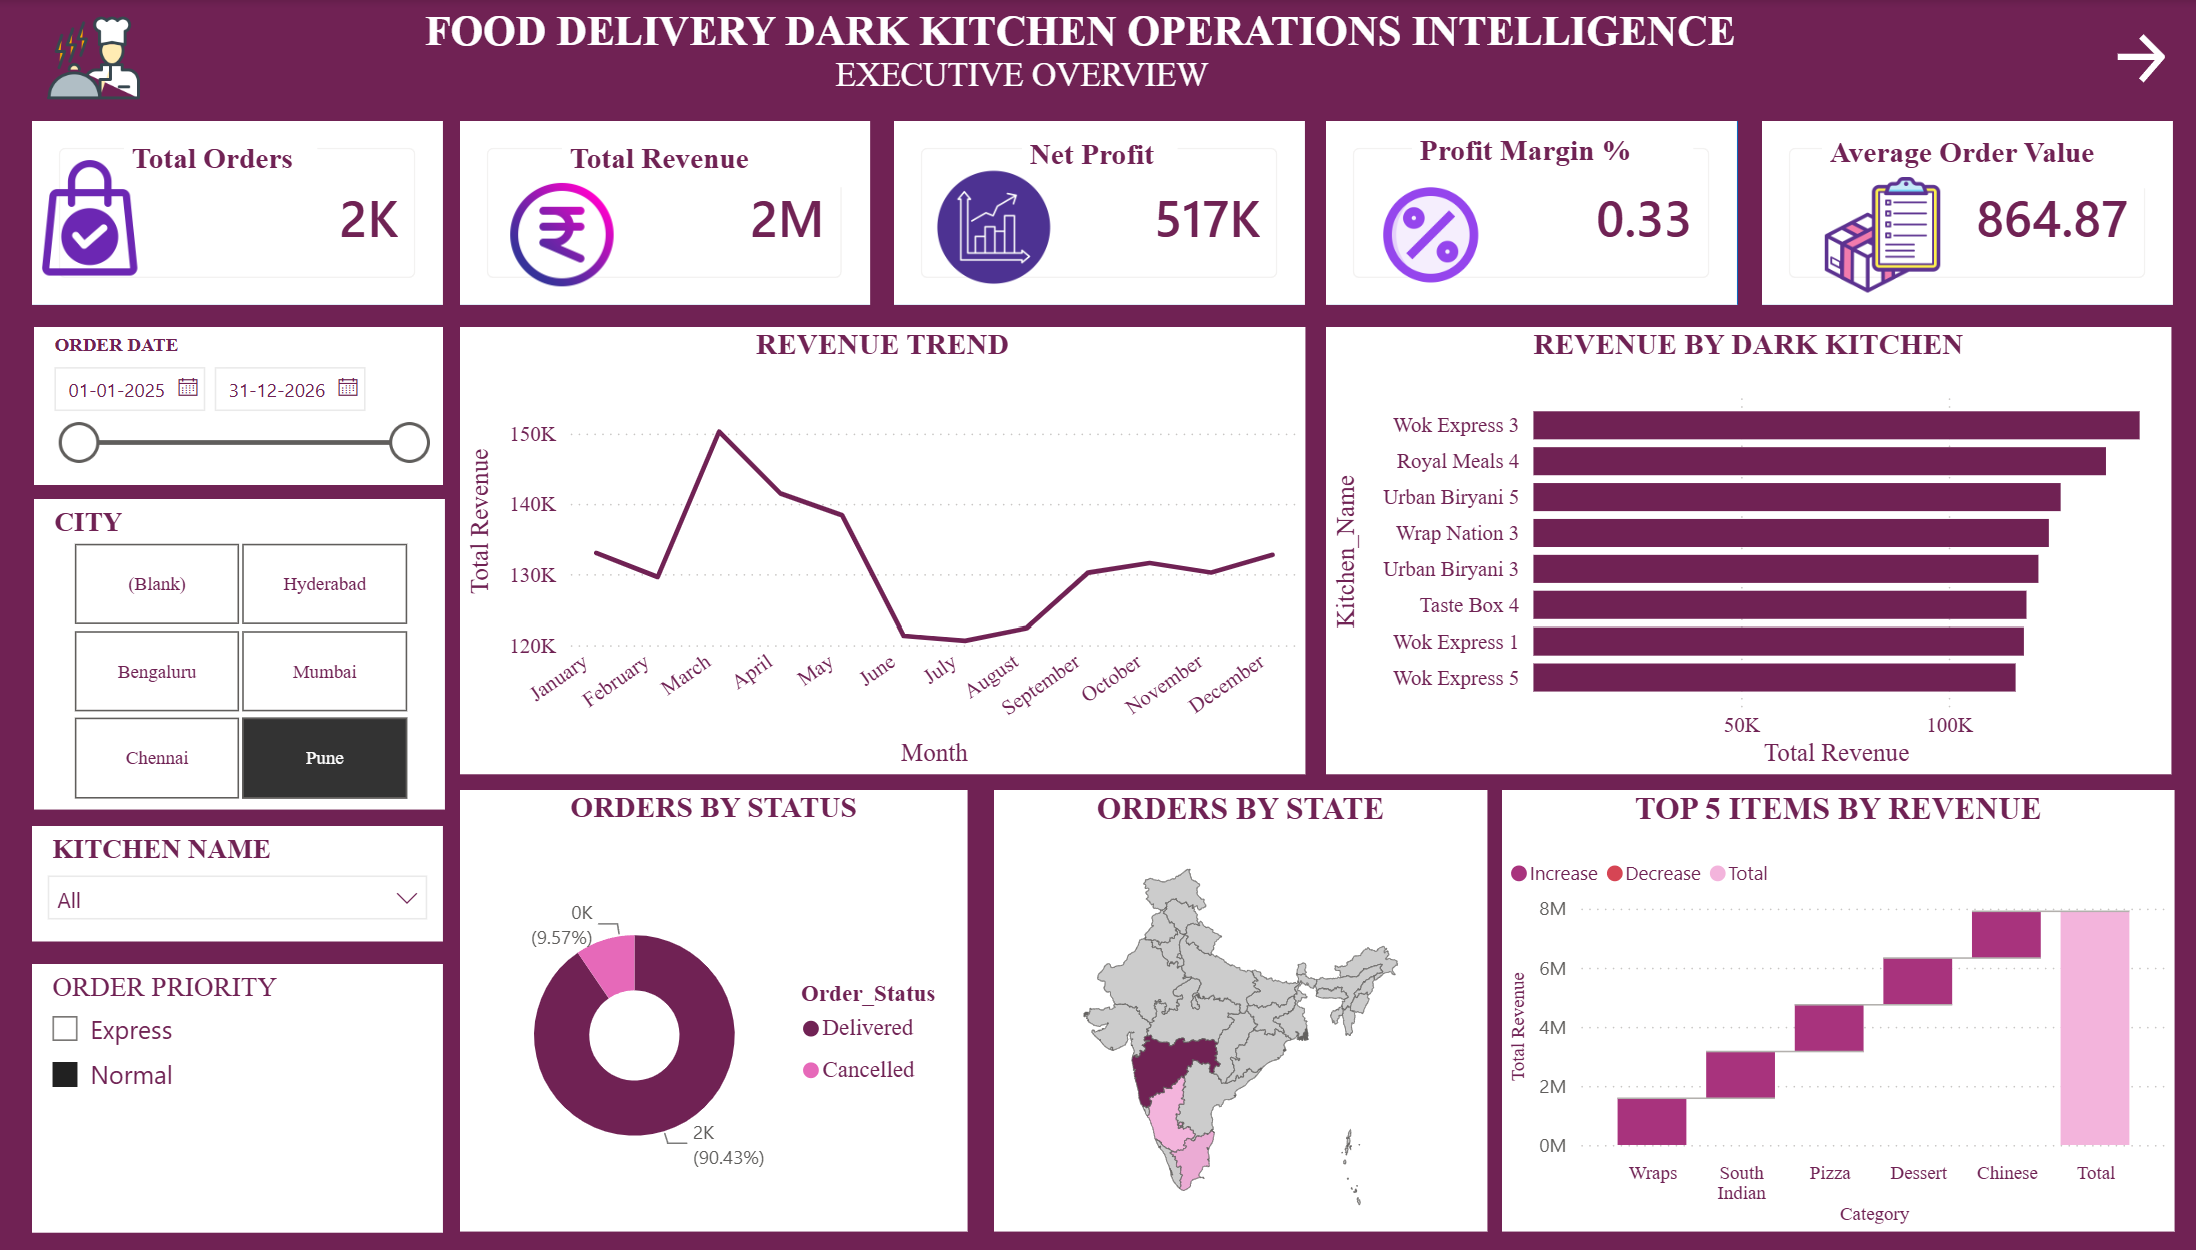

The page's visual inventory and layout, read from the dashboard file:
{"tool":"powerbi","page":{"name":"Executive Overview","canvas":[1400,800],"ordinal":0},"visuals":[{"type":"textbox","box":[0,0,1400,77.6],"z":0},{"type":"shape","box":[294,77.6,260.9,117.1],"z":1000},{"type":"shape","box":[570.2,77.6,260.9,117.1],"z":2000},{"type":"shape","box":[846.4,77.6,260.9,117.1],"z":3000},{"type":"shape","box":[1122.5,77.6,260.9,117.1],"z":4000},{"type":"cardVisual","fields":{"Data":["DB 1 Measures.Total Revenue"]},"box":[294,77.6,260.9,117.1],"z":5000},{"type":"cardVisual","fields":{"Data":["DB 1 Measures.Net Profit"]},"box":[570.8,78.1,261.4,117.2],"z":6000},{"type":"cardVisual","fields":{"Data":["DB 1 Measures.Profit Margin %"]},"box":[845.7,78.1,261.4,117.2],"z":7000},{"type":"shape","box":[21,78.1,260.9,117.1],"z":8000},{"type":"cardVisual","fields":{"Data":["DB 1 Measures.Total Orders"]},"box":[21,78.1,261.4,117.2],"z":9000},{"type":"cardVisual","fields":{"Data":["DB 1 Measures.Avg Order Value"]},"box":[1122.1,78.1,261.4,117.2],"z":10000},{"type":"textbox","box":[79.6,85.6,123.2,33],"z":11000},{"type":"textbox","box":[359,85.6,186.3,34.5],"z":12000},{"type":"textbox","box":[651.9,82.6,99.1,43.6],"z":13000},{"type":"textbox","box":[899.8,79.6,178.8,40.6],"z":14000},{"type":"textbox","box":[1161.2,81.1,207.3,39.1],"z":15000},{"type":"image","box":[313.9,109.7,88.6,81.1],"z":16000},{"type":"image","box":[866.7,117.2,90.1,66.1],"z":17000},{"type":"image","box":[596.4,70.6,73.6,150.2],"z":18000},{"type":"image","box":[1134.1,112.7,130.7,73.6],"z":19000},{"type":"image","box":[21,70.6,73.6,138.2],"z":20000},{"type":"slicer","fields":{"Values":["calendar.Date"]},"box":[22.5,208.8,259.9,100.6],"z":21000},{"type":"slicer","fields":{"Values":["kitchens.City"]},"box":[22.5,318.5,261.4,196.8],"z":22000},{"type":"slicer","fields":{"Values":["kitchens.Kitchen_Name"]},"box":[21,525.8,261.4,73.6],"z":23000},{"type":"slicer","fields":{"Values":["orders.Order_Priority"]},"box":[21,612.9,261.4,171.2],"z":24000},{"type":"lineChart","title":"REVENUE TREND ","fields":{"Category":["orders.Order_Date.Variation.Date Hierarchy.Month","orders.Order_Date.Variation.Date Hierarchy.Day"],"Y":["DB 1 Measures.Total Revenue"]},"box":[294.4,208.8,537.8,283.9],"z":25000},{"type":"clusteredBarChart","title":"REVENUE BY DARK KITCHEN","fields":{"Category":["kitchens.Kitchen_Name"],"Y":["DB 1 Measures.Total Revenue"]},"box":[845.7,208.8,537.8,283.9],"z":26000},{"type":"donutChart","title":"ORDERS BY STATUS ","fields":{"Category":["orders.Order_Status"],"Y":["DB 1 Measures.Total Orders"]},"box":[294.4,503.2,323,280.9],"z":27000},{"type":"shapeMap","title":"ORDERS BY STATE","fields":{"Value":["DB 1 Measures.Total Orders"],"Category":["customers.State"]},"box":[633.9,503.2,313.9,280.9],"z":28000},{"type":"waterfallChart","title":"TOP 5 ITEMS BY REVENUE","fields":{"Category":["menu.Category"],"Y":["DB 1 Measures.Total Revenue"]},"box":[956.9,503.2,428.1,280.9],"z":29000},{"type":"image","box":[27,7.5,67.6,60.1],"z":30000},{"type":"actionButton","box":[1282.8,18,100,40],"z":31000}]}

Visuals, with their boxes in screenshot pixels (x1, y1, x2, y2), scaled from the page's 1400x800 canvas onto the 2196x1250 screenshot:
textbox: [left=0, top=0, right=2195, bottom=121]
shape: [left=461, top=121, right=870, bottom=304]
shape: [left=894, top=121, right=1304, bottom=304]
shape: [left=1328, top=121, right=1737, bottom=304]
shape: [left=1761, top=121, right=2170, bottom=304]
cardVisual - DB 1 Measures.Total Revenue: [left=461, top=121, right=870, bottom=304]
cardVisual - DB 1 Measures.Net Profit: [left=895, top=122, right=1305, bottom=305]
cardVisual - DB 1 Measures.Profit Margin %: [left=1327, top=122, right=1737, bottom=305]
shape: [left=33, top=122, right=442, bottom=305]
cardVisual - DB 1 Measures.Total Orders: [left=33, top=122, right=443, bottom=305]
cardVisual - DB 1 Measures.Avg Order Value: [left=1760, top=122, right=2170, bottom=305]
textbox: [left=125, top=134, right=318, bottom=185]
textbox: [left=563, top=134, right=855, bottom=188]
textbox: [left=1023, top=129, right=1178, bottom=197]
textbox: [left=1411, top=124, right=1692, bottom=188]
textbox: [left=1821, top=127, right=2147, bottom=188]
image: [left=492, top=171, right=631, bottom=298]
image: [left=1359, top=183, right=1501, bottom=286]
image: [left=935, top=110, right=1051, bottom=345]
image: [left=1779, top=176, right=1984, bottom=291]
image: [left=33, top=110, right=148, bottom=326]
slicer - calendar.Date: [left=35, top=326, right=443, bottom=483]
slicer - kitchens.City: [left=35, top=498, right=445, bottom=805]
slicer - kitchens.Kitchen_Name: [left=33, top=822, right=443, bottom=937]
slicer - orders.Order_Priority: [left=33, top=958, right=443, bottom=1225]
"REVENUE TREND " lineChart: [left=462, top=326, right=1305, bottom=770]
"REVENUE BY DARK KITCHEN" clusteredBarChart: [left=1327, top=326, right=2170, bottom=770]
"ORDERS BY STATUS " donutChart: [left=462, top=786, right=968, bottom=1225]
"ORDERS BY STATE" shapeMap: [left=994, top=786, right=1487, bottom=1225]
"TOP 5 ITEMS BY REVENUE" waterfallChart: [left=1501, top=786, right=2172, bottom=1225]
image: [left=42, top=12, right=148, bottom=106]
actionButton: [left=2012, top=28, right=2169, bottom=91]
